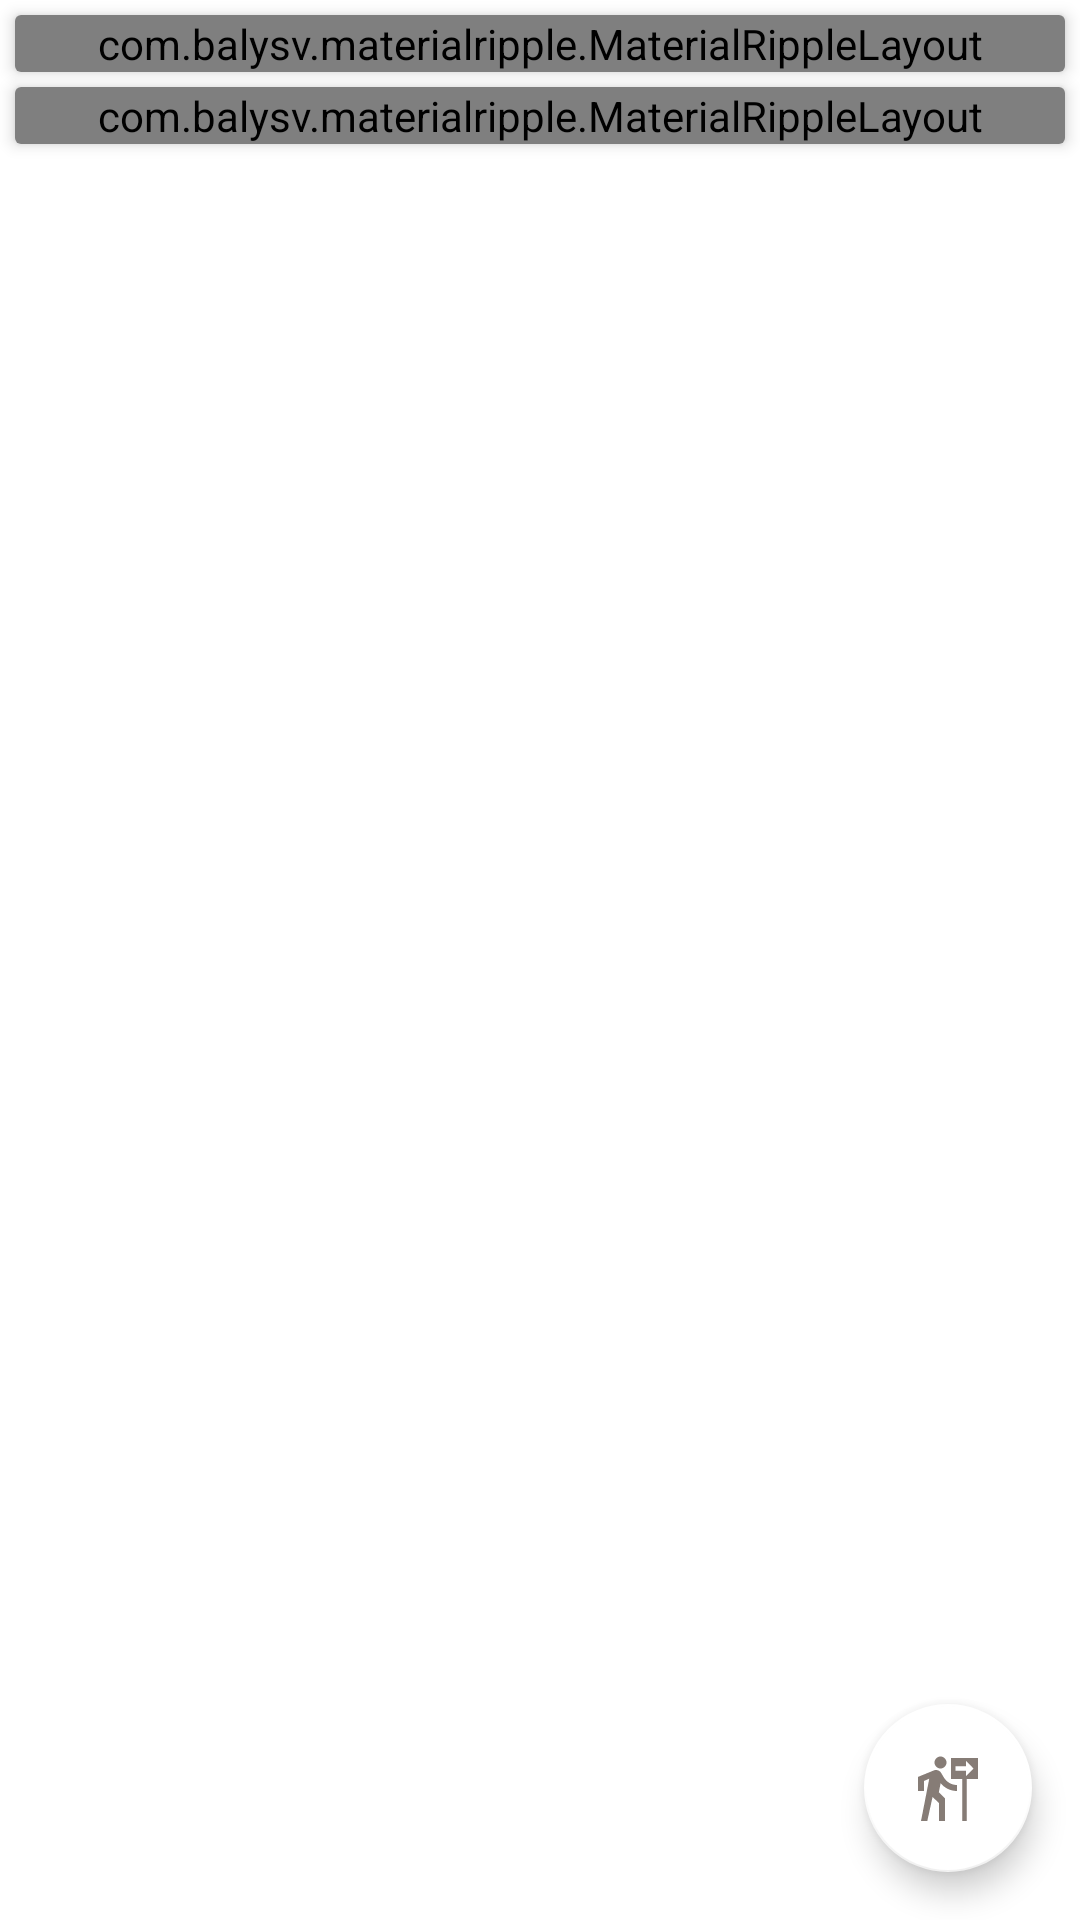

Point at icon controls on the screen. Image size 1080px x 1920px, points as [x,y].
enter: [923,1789]
